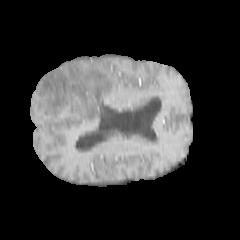glioma: (38, 63, 114, 134)
